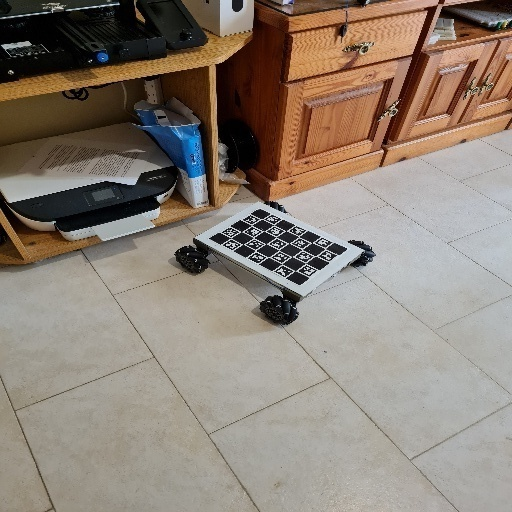Omniwheel: (172, 200, 379, 325)
